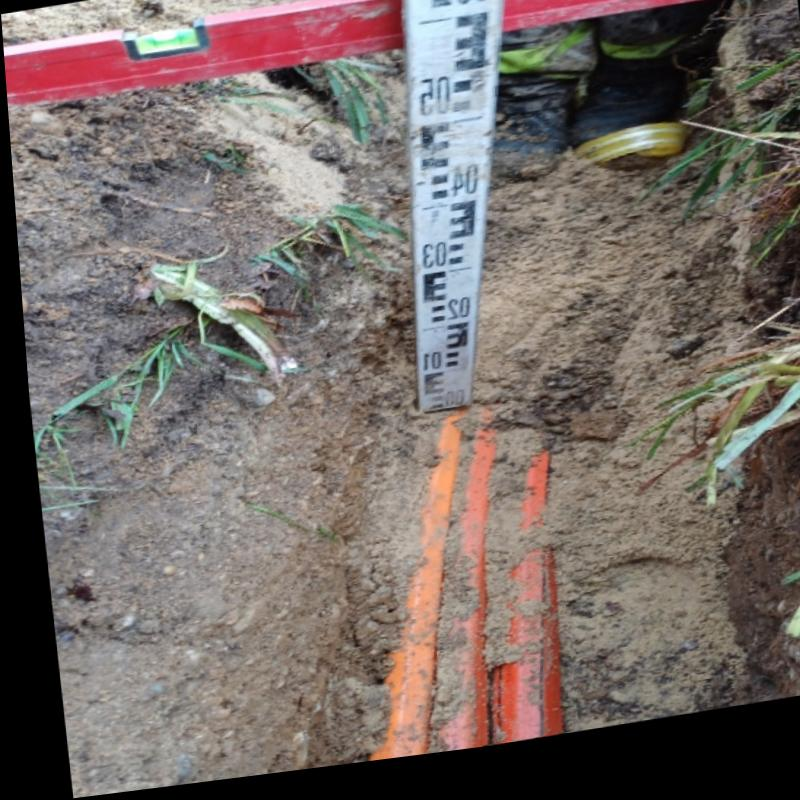Orang-Speednetrohrchen: (365, 424, 547, 768)
